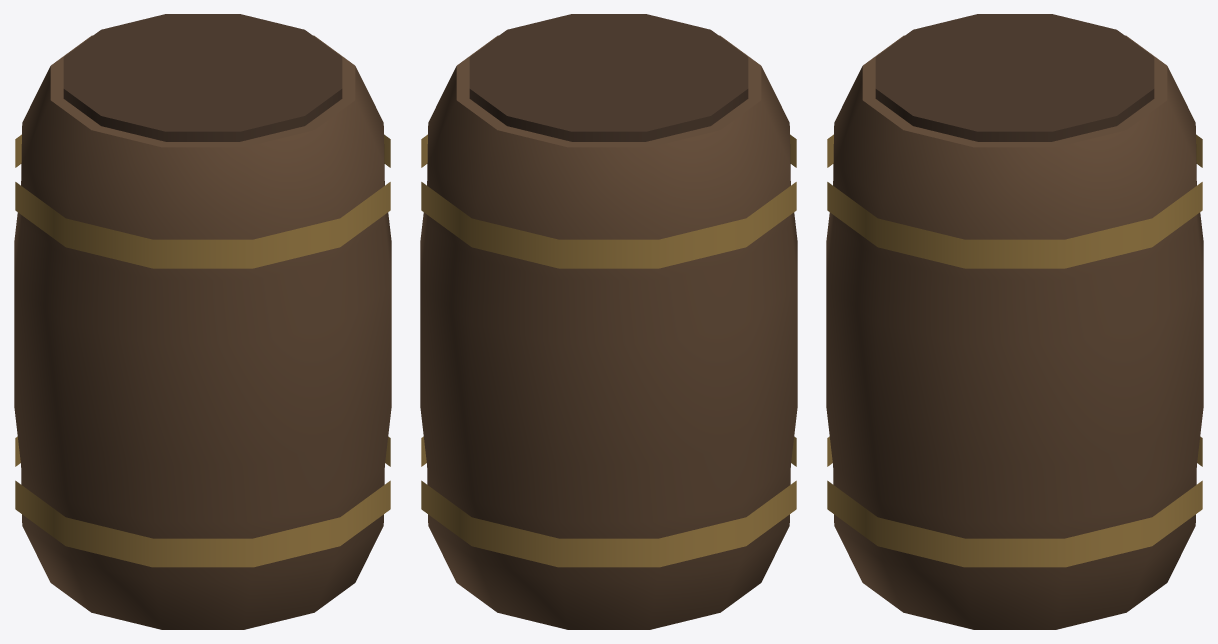
Rendered from cask.glb.
3 renders of one model, left to right at view 1: azimuth 30°, elevation 25°; view 2: azimuth 150°, elevation 25°; view 3: azimuth 270°, elevation 25°, orthographic.
Parts seen in each view (by area): view 1: cask; view 2: cask; view 3: cask.
Part boxes in pixels (left/top/right/bottom): cask: left=14, top=14, right=391, bottom=629; cask: left=420, top=14, right=797, bottom=629; cask: left=826, top=14, right=1203, bottom=629.
Bounding box in the file's own units: 0.709 × 1.02 × 0.709.
